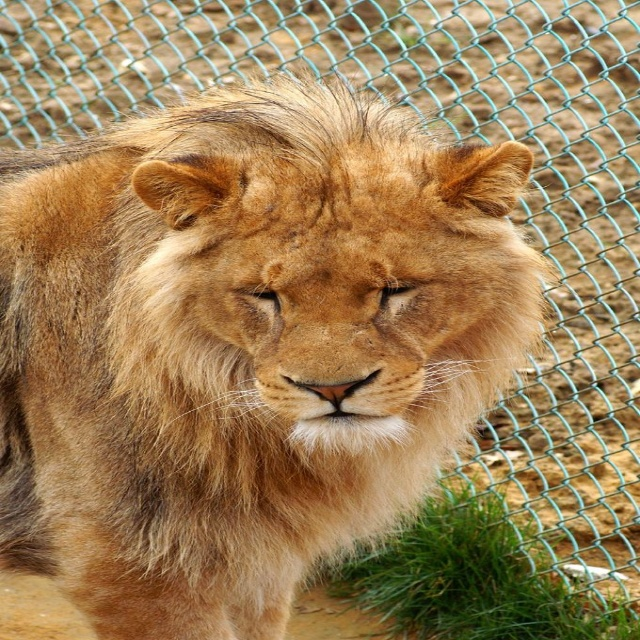Lion: (0, 74, 559, 640)
